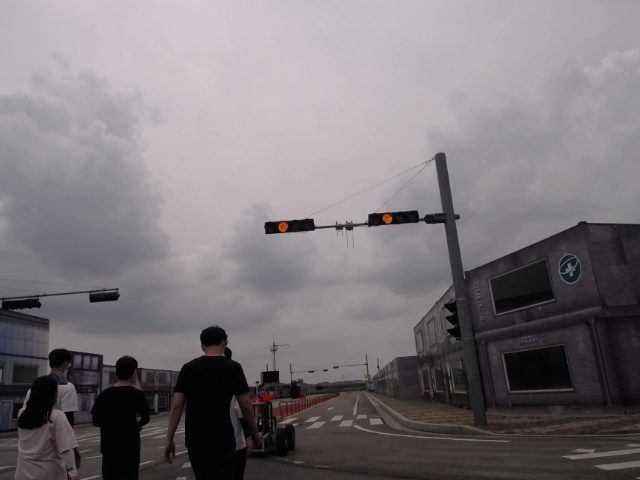orange_4: (364, 208, 421, 227), (263, 218, 317, 234)
